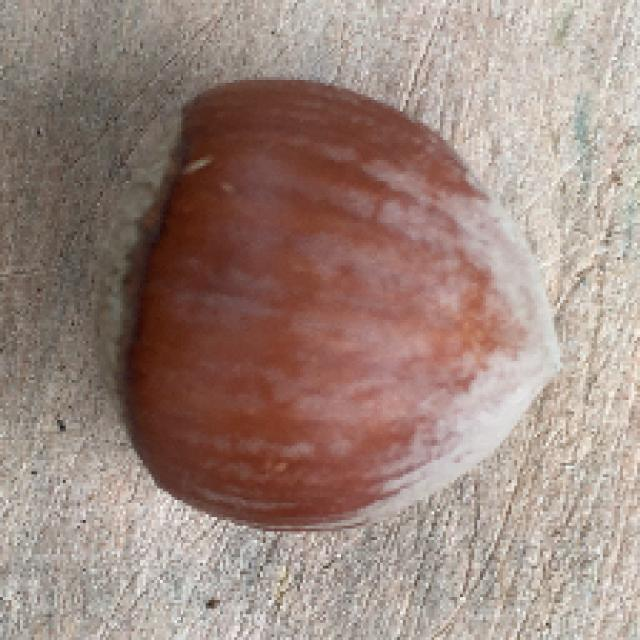QualityHazelnut: (84, 75, 563, 536)
